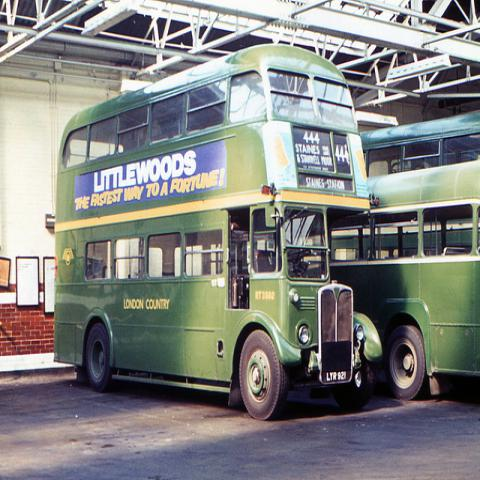bus: (54, 44, 384, 424), (332, 111, 480, 402)
